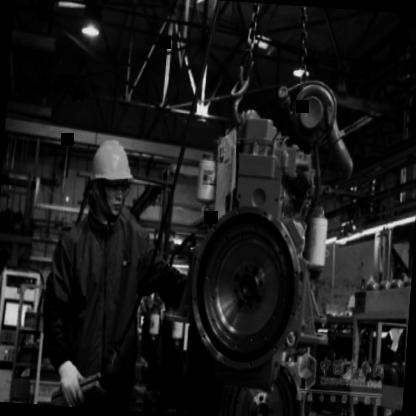helmet: (80, 130, 140, 230)
